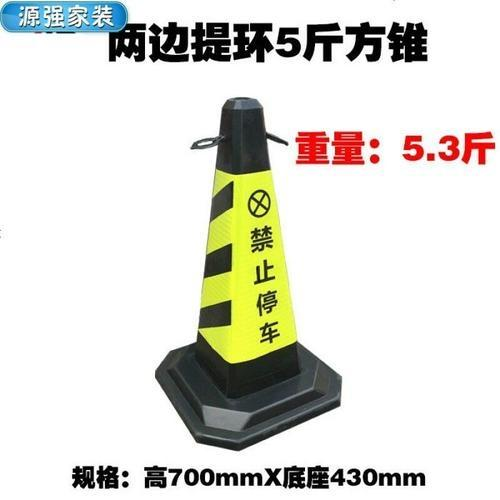cone_barrel: (158, 92, 338, 436)
